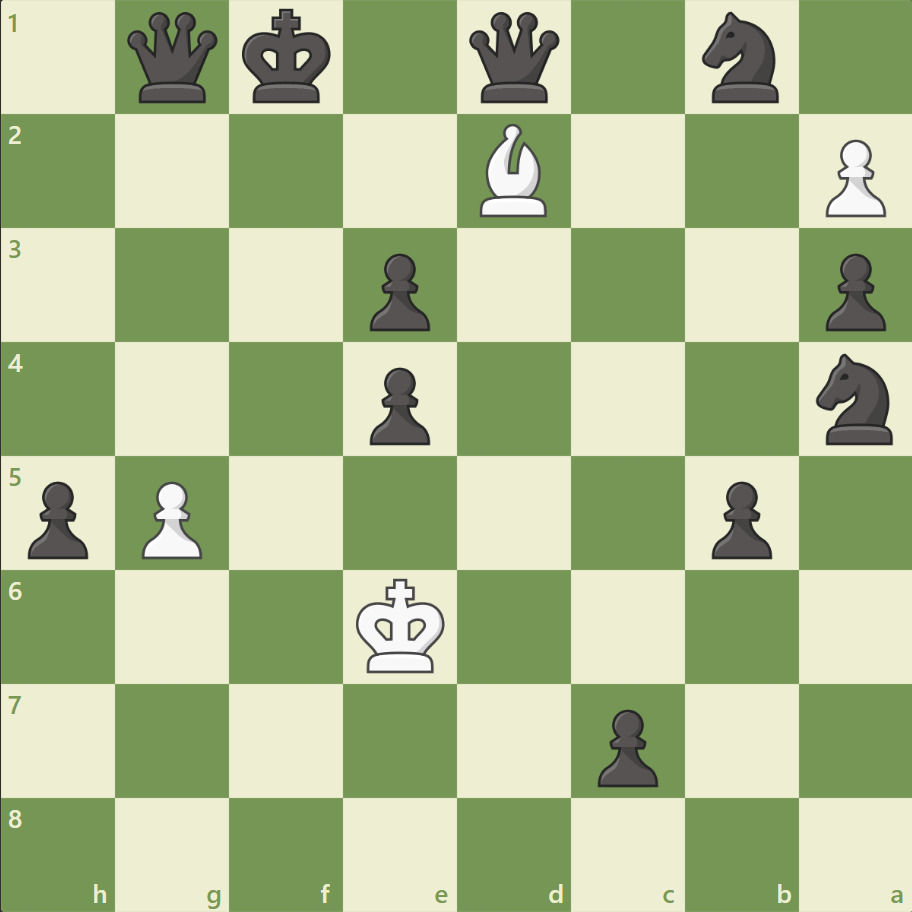B: (471, 120, 555, 222)
K: (351, 571, 451, 679)
P: (133, 473, 208, 564), (815, 132, 889, 223)
k: (238, 4, 338, 112)
n: (692, 7, 789, 110), (806, 348, 903, 450)
p: (701, 473, 776, 564), (20, 473, 95, 564), (588, 700, 662, 791), (361, 359, 435, 450), (815, 246, 889, 337), (361, 246, 435, 337)
q: (464, 9, 563, 108), (124, 9, 223, 108)
